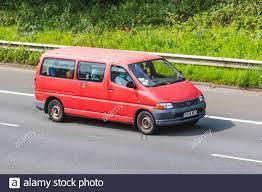Van: (28, 44, 207, 135)
